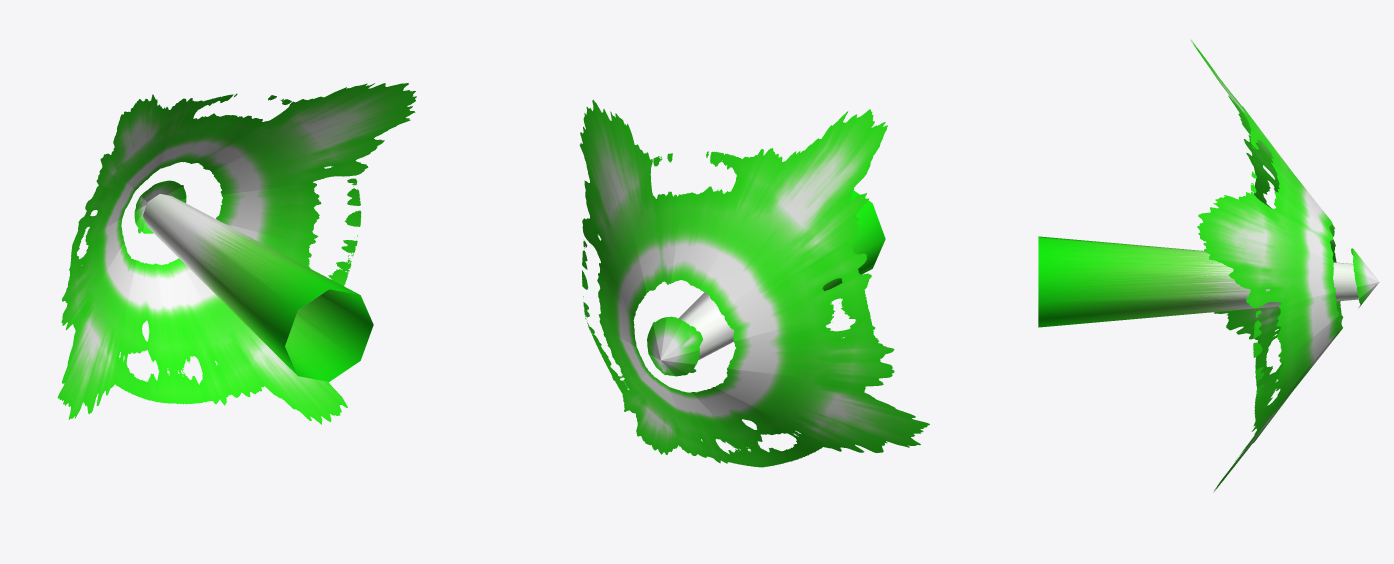
The model's file is muzzle1.FBX.
The picture shows the model from 3 angles, left to right: view 1: azimuth 30°, elevation 25°; view 2: azimuth 150°, elevation 25°; view 3: azimuth 270°, elevation 25°; orthographic projection. The views are drawn at different scales.
Parts seen in each view (by area): view 1: Cone003; view 2: Cone003; view 3: Cone003.
Part boxes in pixels (bbox=[...]): Cone003: bbox=[57, 83, 416, 424]; Cone003: bbox=[579, 99, 929, 467]; Cone003: bbox=[1038, 40, 1379, 491].
Size of the model in its own units: 0.2748 by 0.2748 by 0.1779.
